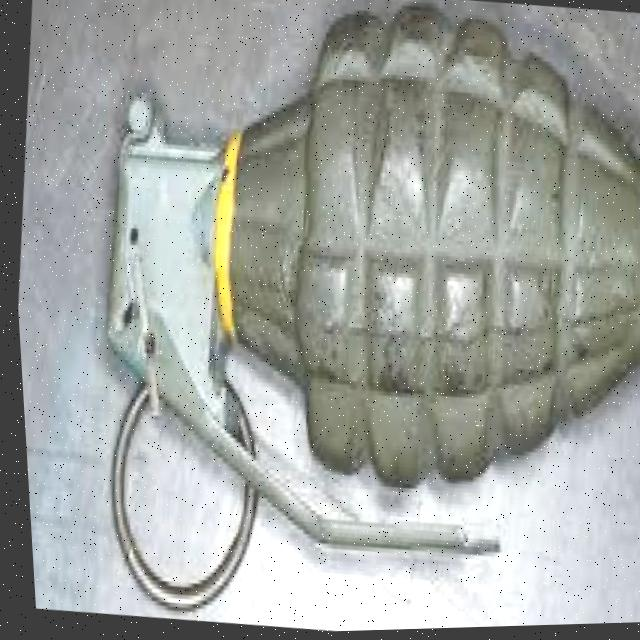grenade: (44, 0, 640, 639)
